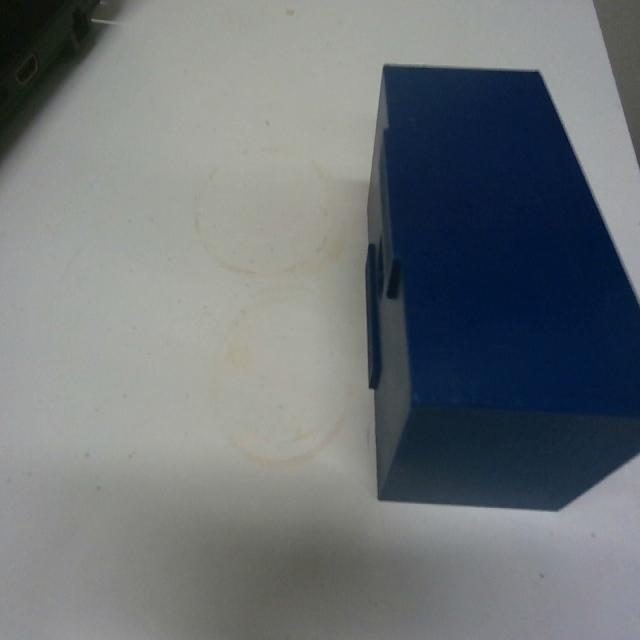Blue Cuboid: (362, 59, 639, 513)
